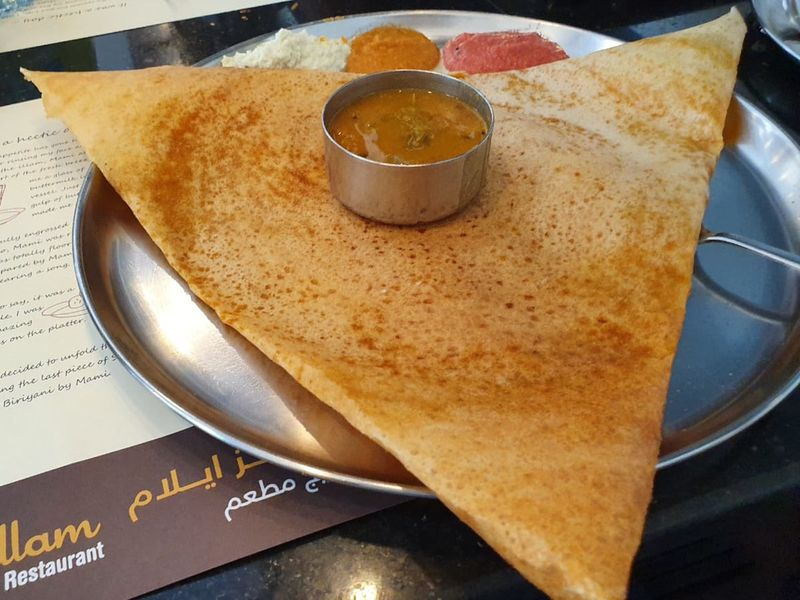dosa: (16, 6, 761, 600)
